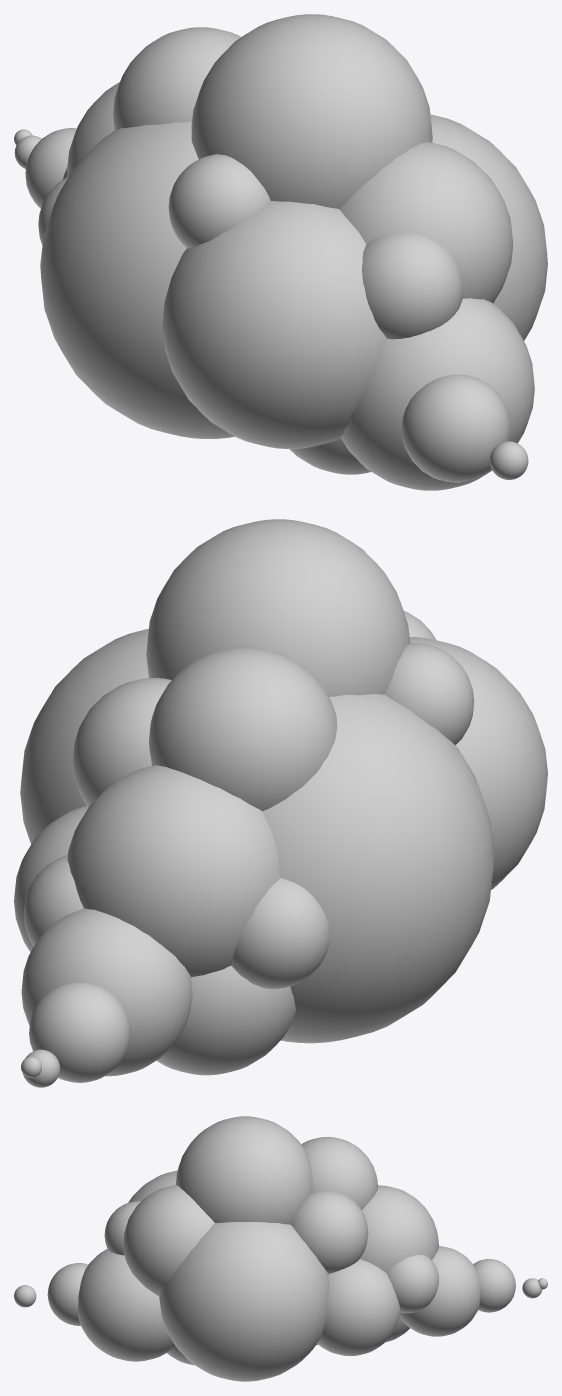
The model's file is Cloud1_Onai.glb.
3 views of the same model, one above another, from view 1: azimuth 30°, elevation 25°; view 2: azimuth 150°, elevation 25°; view 3: azimuth 270°, elevation 25° (orthographic). The views are drawn at different scales.
Visible parts, largest first — view 1: Sphere.021; view 2: Sphere.021; view 3: Sphere.021.
Part boxes in pixels (x1,y1,x2,y2): Sphere.021: (14, 14, 547, 490); Sphere.021: (14, 519, 547, 1087); Sphere.021: (14, 1116, 547, 1381).
Size of the model in its own units: 5.61 by 5.16 by 10.48.
Materials: 1 (1 with a texture image).
